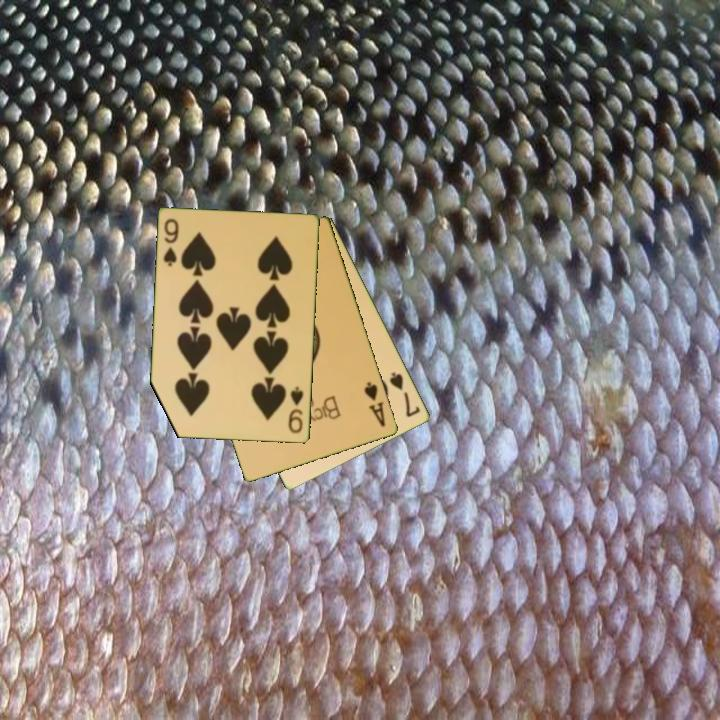7s: (386, 368, 423, 420)
9s: (160, 215, 182, 270), (285, 383, 306, 436)
As: (361, 378, 389, 430)
